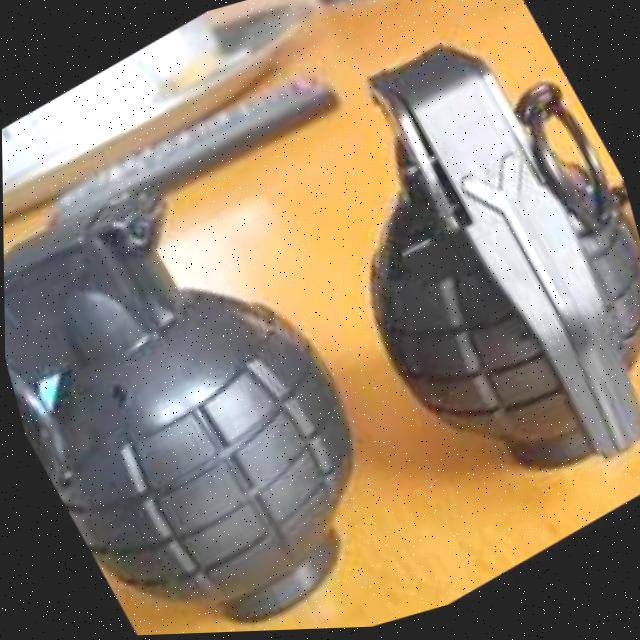grenade: (1, 115, 430, 640)
